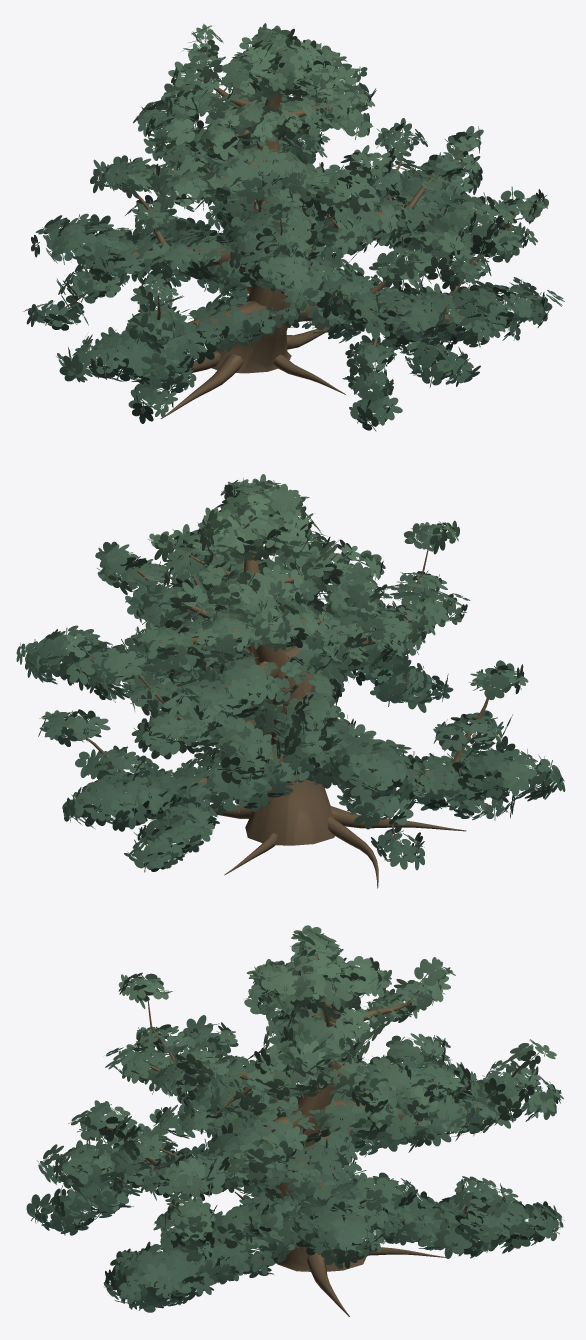
File: tree.gltf
3 renders of one model, top to bottom at view 1: azimuth 30°, elevation 25°; view 2: azimuth 150°, elevation 25°; view 3: azimuth 270°, elevation 25°, orthographic. The views are drawn at different scales.
Visible parts, largest first — view 1: Tree_LOD0; view 2: Tree_LOD0; view 3: Tree_LOD0.
Boxes of the visible parts, x1,y1,x2,y2 form: Tree_LOD0: (23, 23, 564, 431); Tree_LOD0: (16, 474, 565, 888); Tree_LOD0: (26, 925, 564, 1316).
Size of the model in its own units: 11.63 by 7.62 by 11.3.
Materials: 2 (2 with a texture image).
